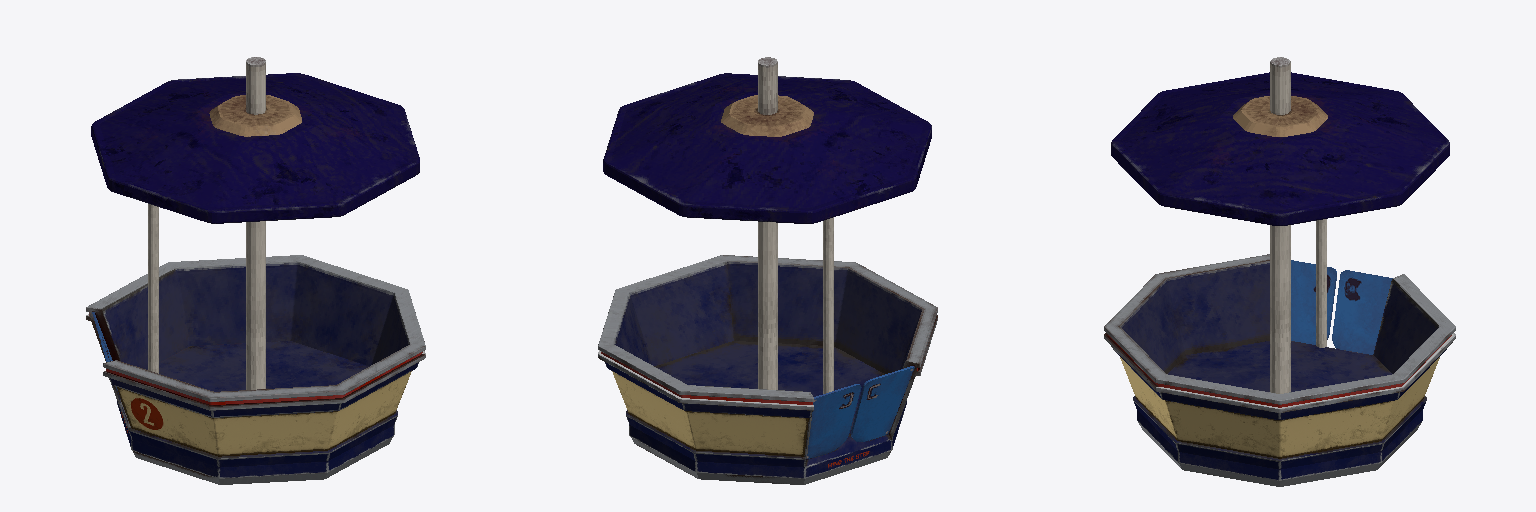
The picture shows the model from 3 angles: view 1: azimuth 30°, elevation 25°; view 2: azimuth 150°, elevation 25°; view 3: azimuth 270°, elevation 25°; orthographic projection.
Visible parts, largest first — view 1: Car_Main001_T_Car_02_0; view 2: Car_Main001_T_Car_02_0; view 3: Car_Main001_T_Car_02_0.
Part boxes in pixels (left/top/right/bottom): Car_Main001_T_Car_02_0: left=86, top=57, right=425, bottom=484; Car_Main001_T_Car_02_0: left=598, top=57, right=937, bottom=484; Car_Main001_T_Car_02_0: left=1104, top=57, right=1455, bottom=486.
Size of the model in its own units: 2.35 by 2.88 by 2.35.
1 materials, 1 textured.